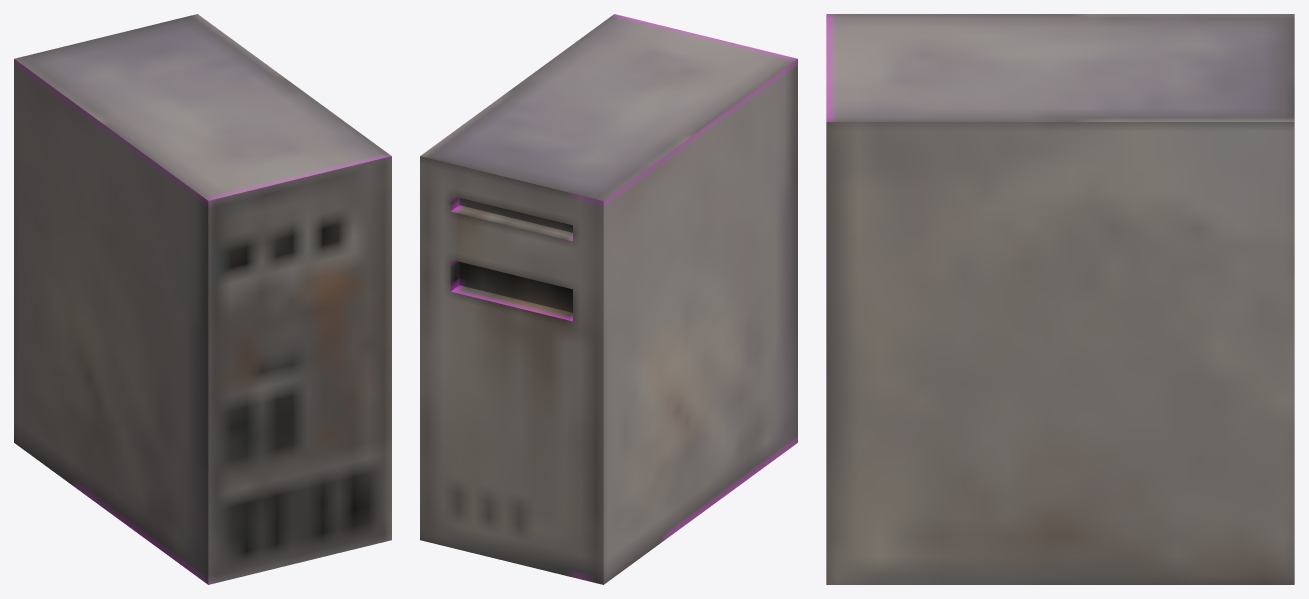
The model's file is computer_desktop.fbx.
3 renders of one model, left to right at view 1: azimuth 30°, elevation 25°; view 2: azimuth 150°, elevation 25°; view 3: azimuth 270°, elevation 25°, orthographic. The views are drawn at different scales.
Parts seen in each view (by area): view 1: computer_desktop; view 2: computer_desktop; view 3: computer_desktop.
Part boxes in pixels (x1=…): computer_desktop: x1=14, y1=14, x2=391, y2=584; computer_desktop: x1=420, y1=14, x2=797, y2=584; computer_desktop: x1=826, y1=14, x2=1294, y2=584.
Size of the model in its own units: 60 by 120 by 110.
